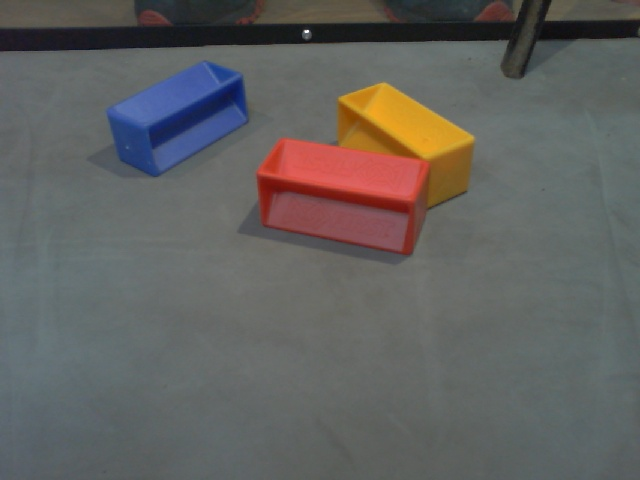BlueSample: (104, 59, 250, 178)
RedSample: (247, 129, 433, 258)
YellowSample: (332, 80, 478, 213)
